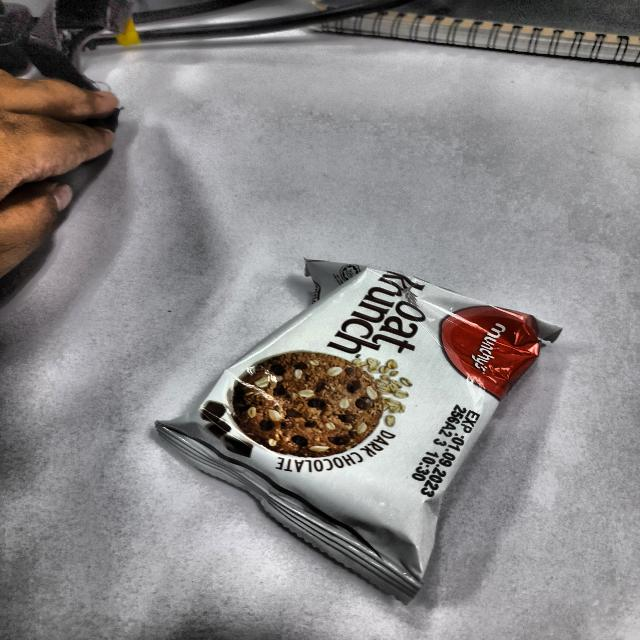Plastic: (165, 251, 542, 589)
